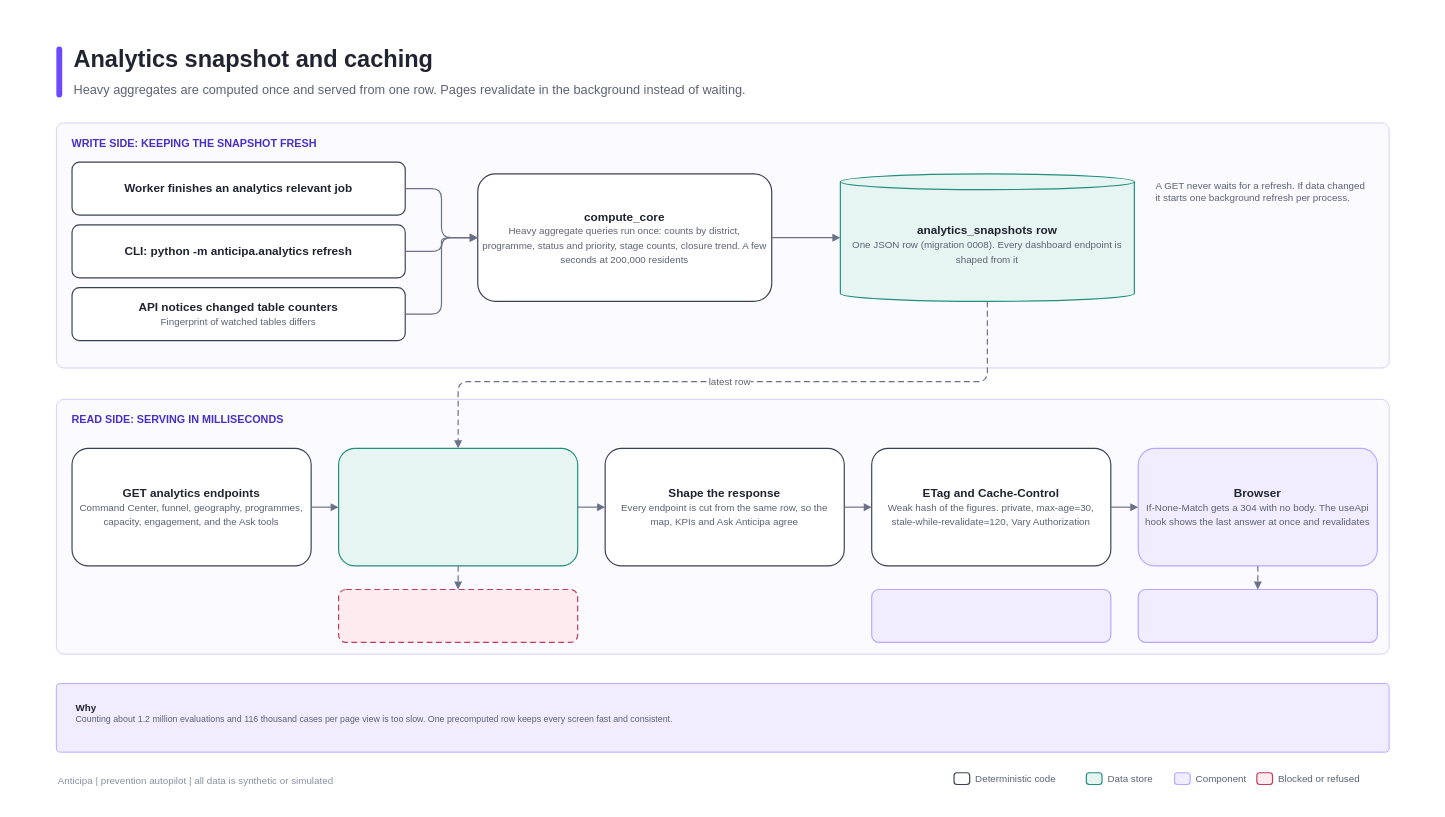
This 1445x817 diagram has some shape labels left out. The centre of each missing label's shape, as x and y in pixels:
In memory cache, up to 300 keys: pixel 991 615
No snapshot yet: compute live: pixel 458 615
Prefetch on link hover: pixel 1257 615
Read one snapshot row Milliseconds. No heavy query on the request path: pixel 458 506
